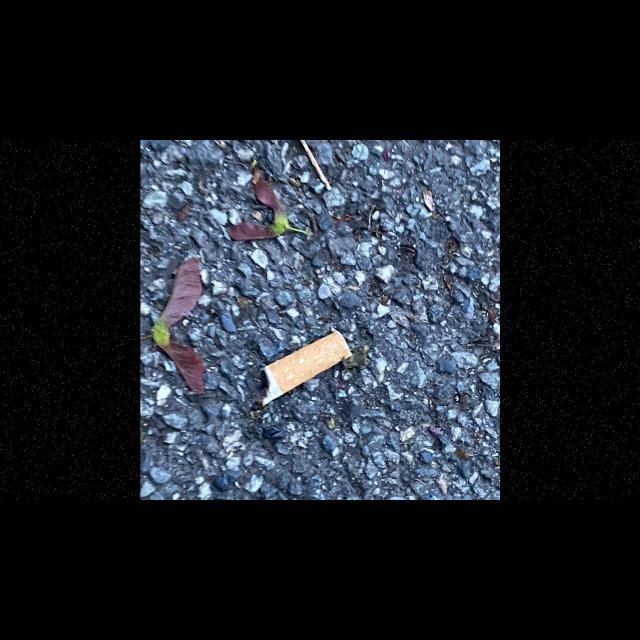cigarette: (256, 330, 353, 408)
